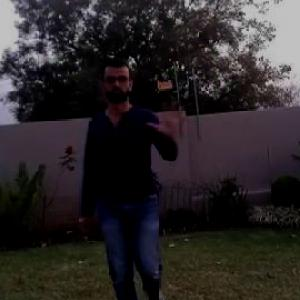follow_hand: (147, 100, 189, 138)
